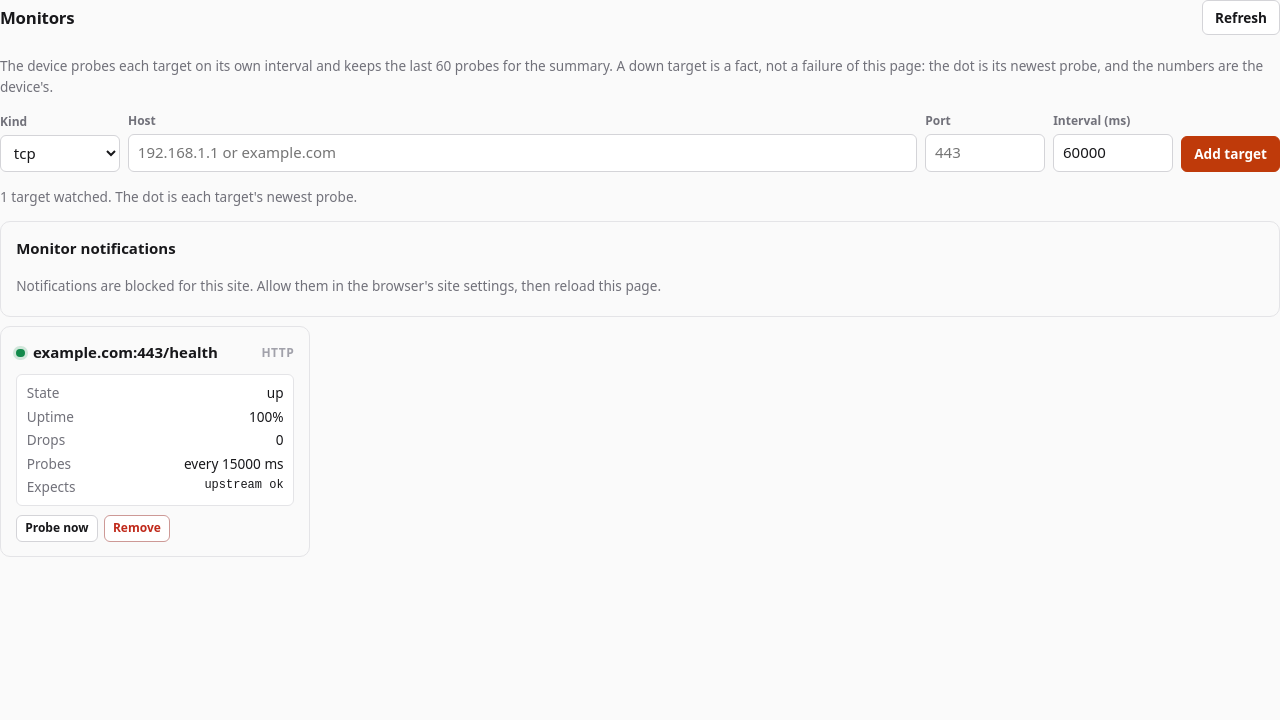
Scenario: MonitorsPage › removes a target only through the page's confirmation
Step 1. Click the button "Remove" → x=137, y=529, box [104,515,170,542]
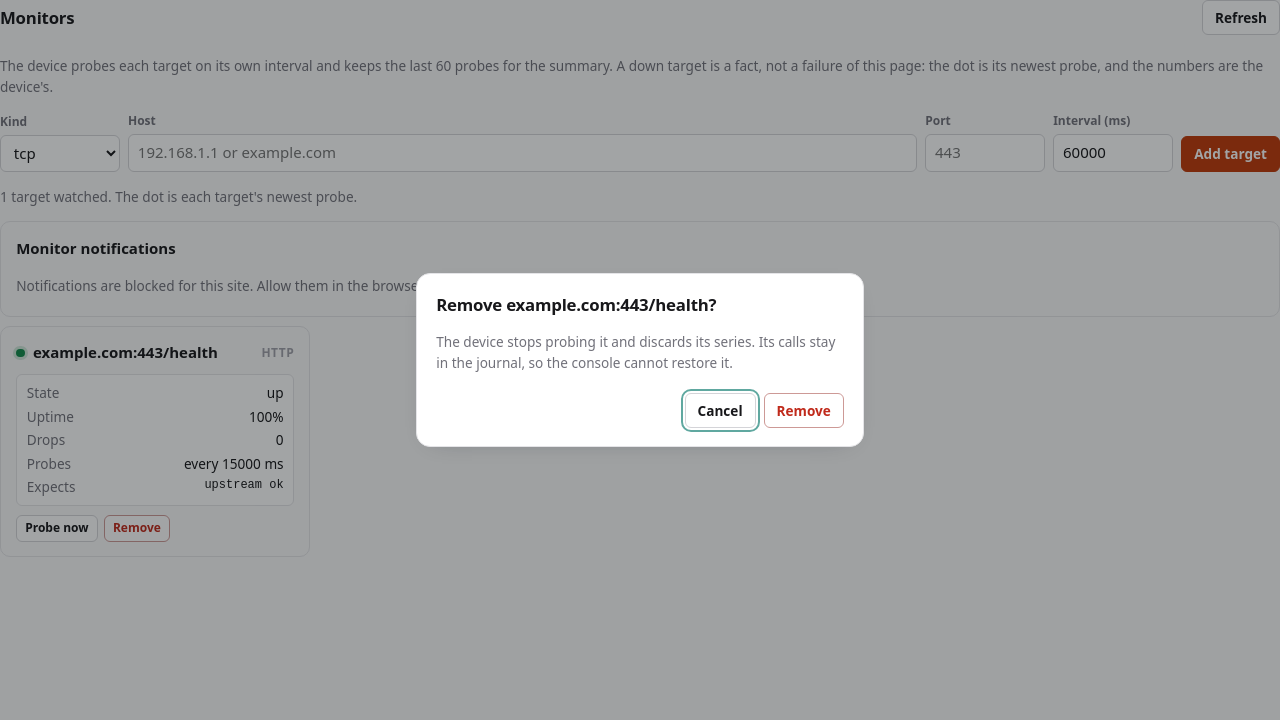
Expected: the dialog "Remove example.com:443/health?" shows "The device stops probing it and discards its series.", [436,332,835,372]
Step 2. Click the button "Cancel" → x=720, y=411, box [685,393,756,428]
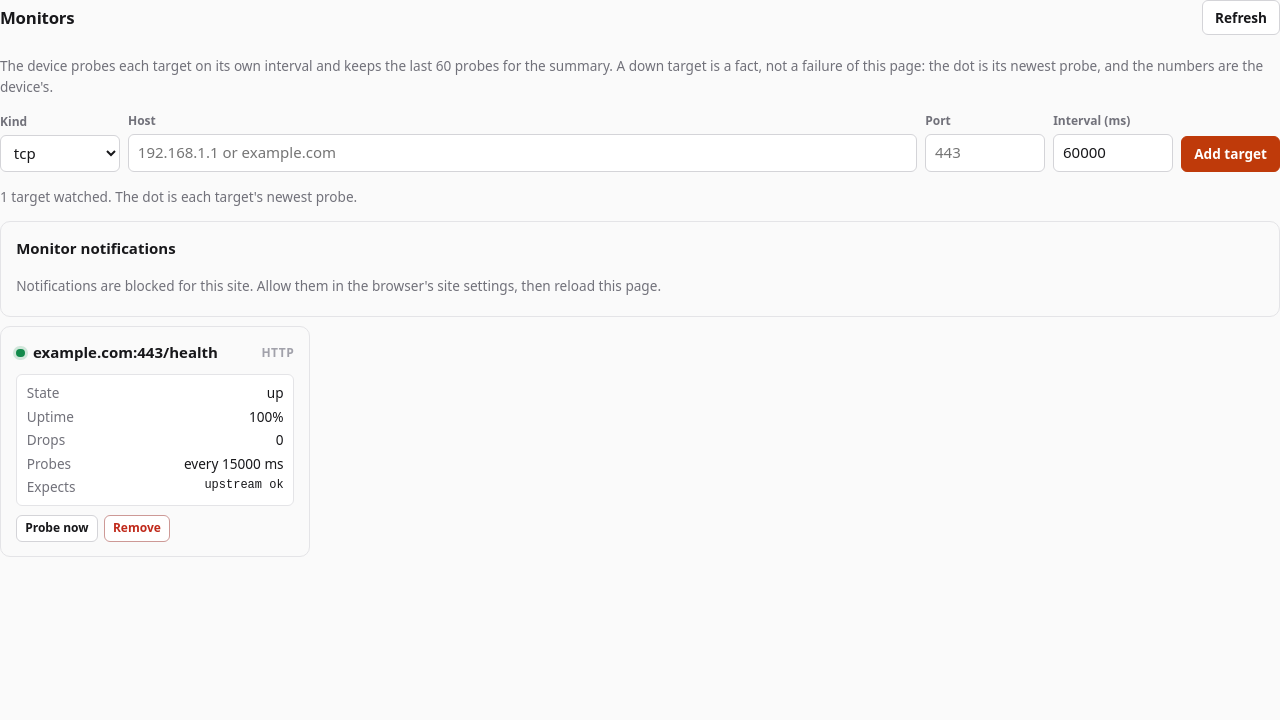
Expected: the dialog is gone
Step 3. Click the button "Remove" → x=137, y=529, box [104,515,170,542]
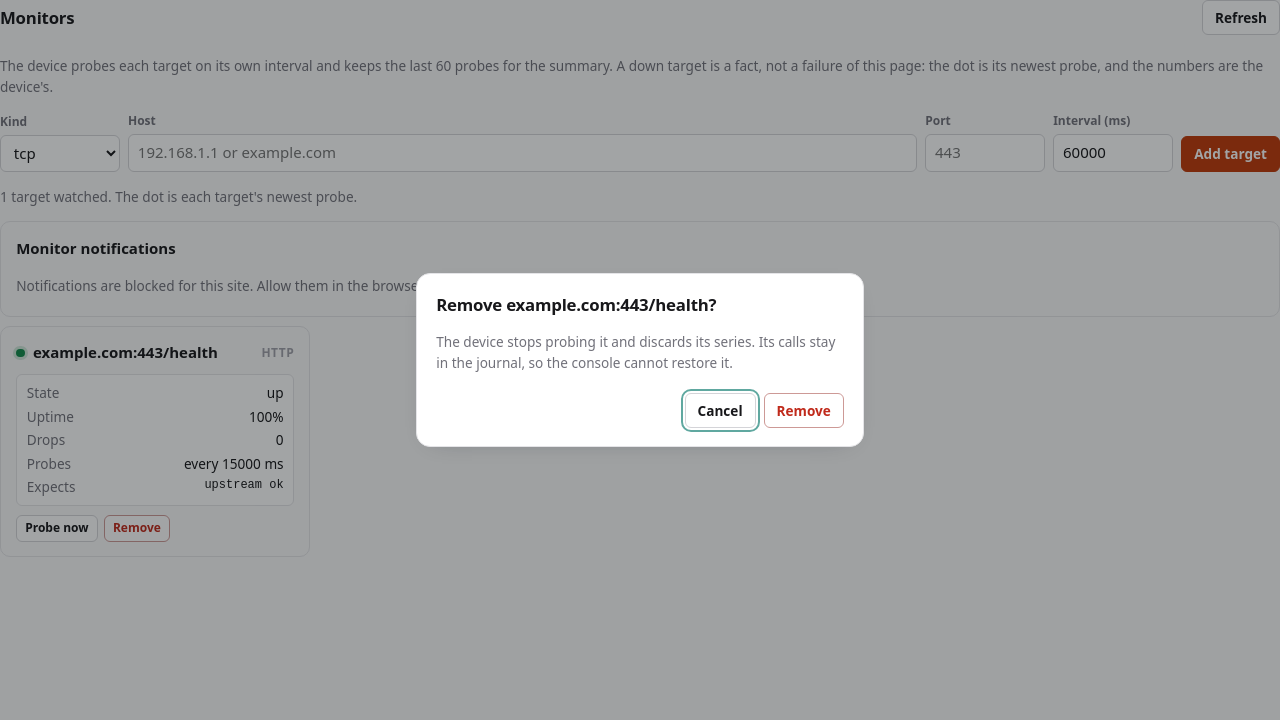
Step 4. Click the button "Remove" → x=804, y=411, box [764,393,844,428]
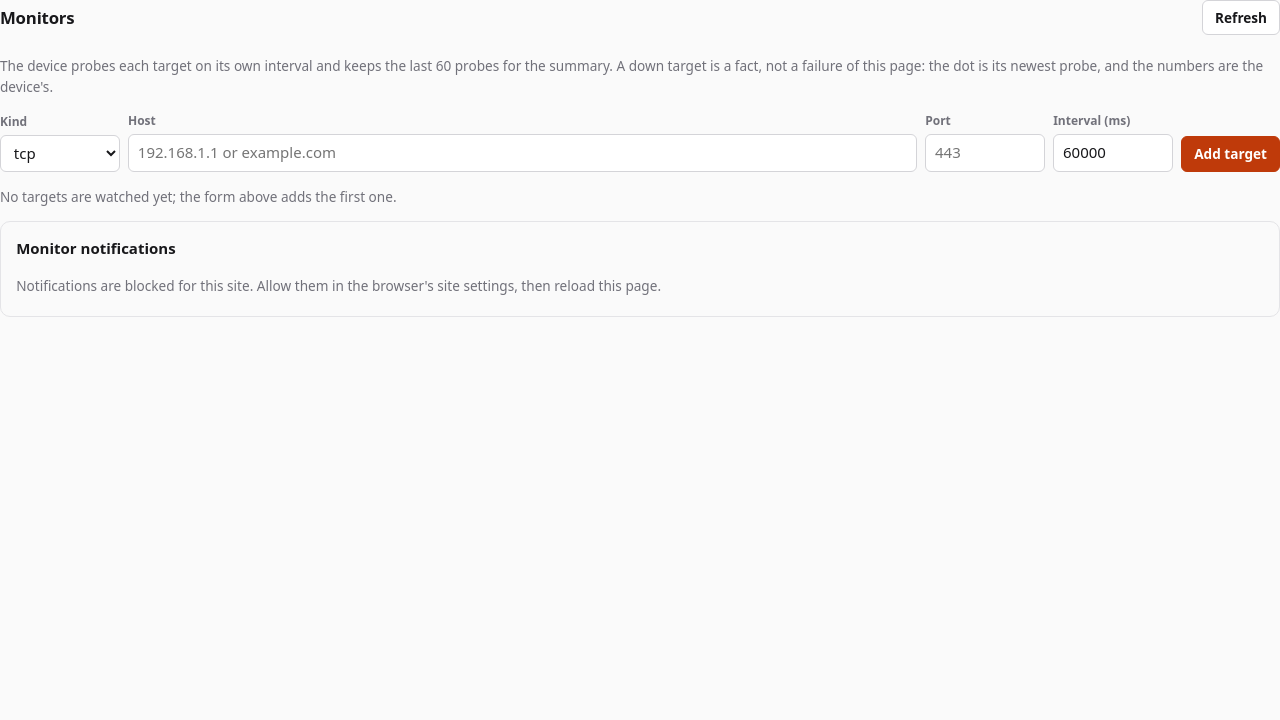
Expected: the dialog is gone
Expected: the text "No targets are watched yet; the form above adds the first one." is shown, [0,187,396,206]
